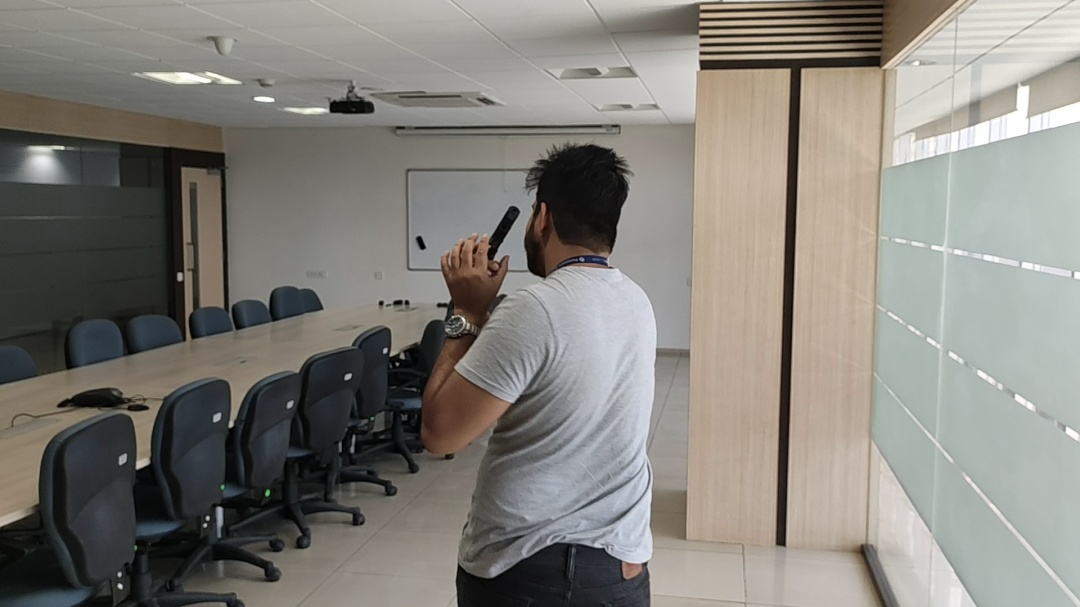gun: (488, 206, 521, 259)
